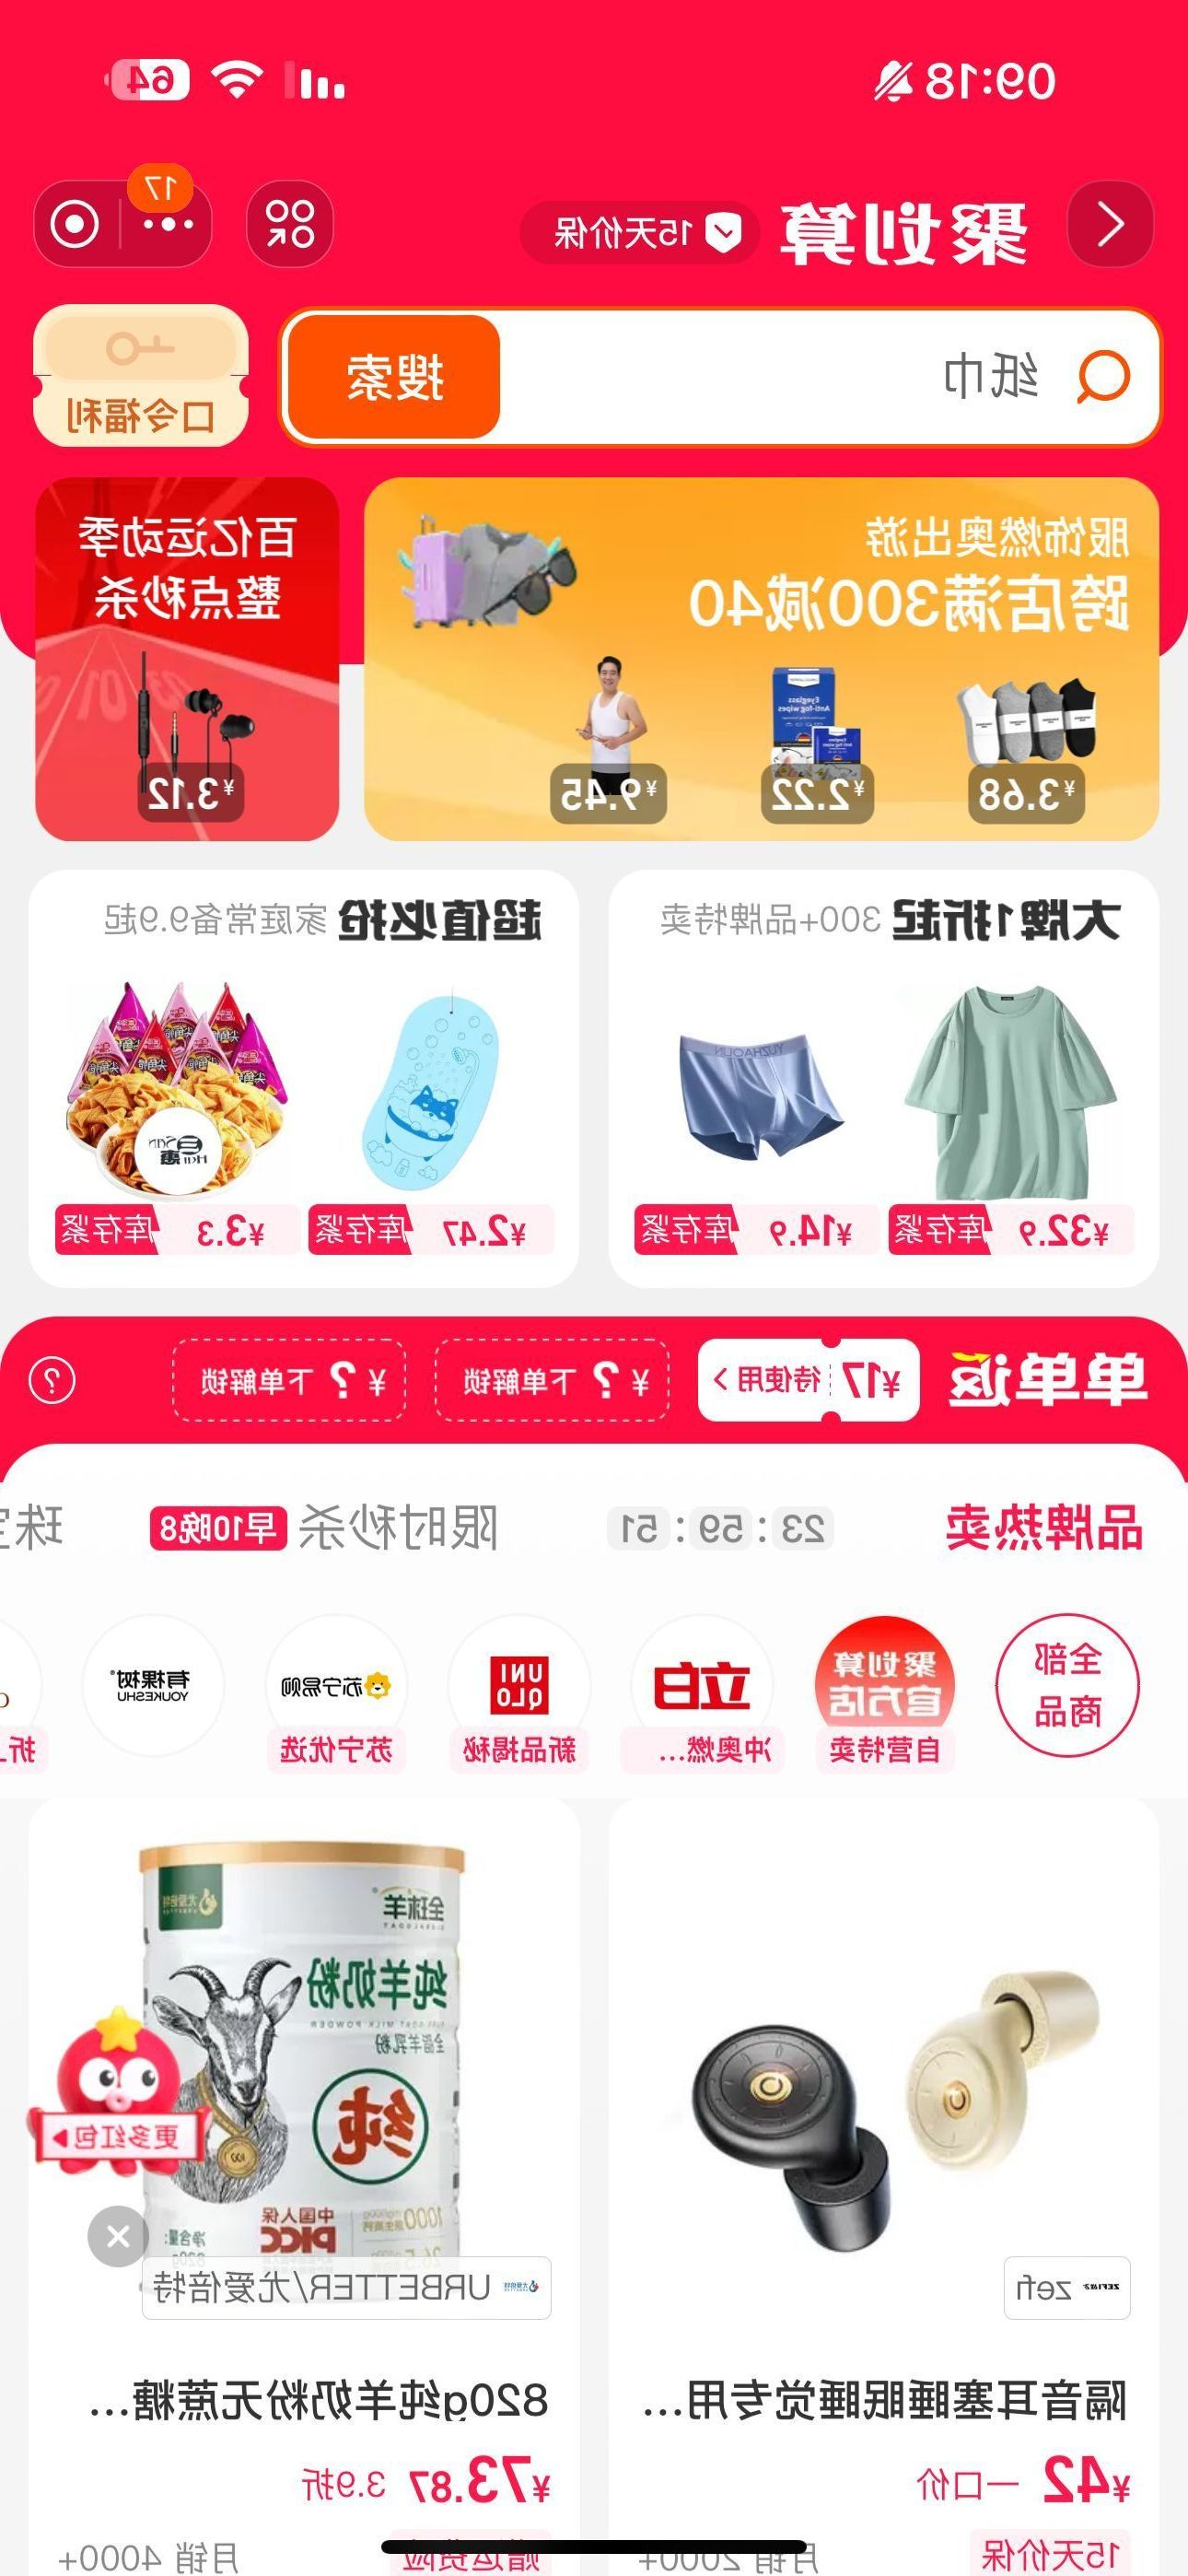item: (20, 1755, 596, 2571), (606, 1778, 1172, 2576)
op_bar: (2, 156, 1188, 311)
seckill: (7, 458, 1185, 1308)
